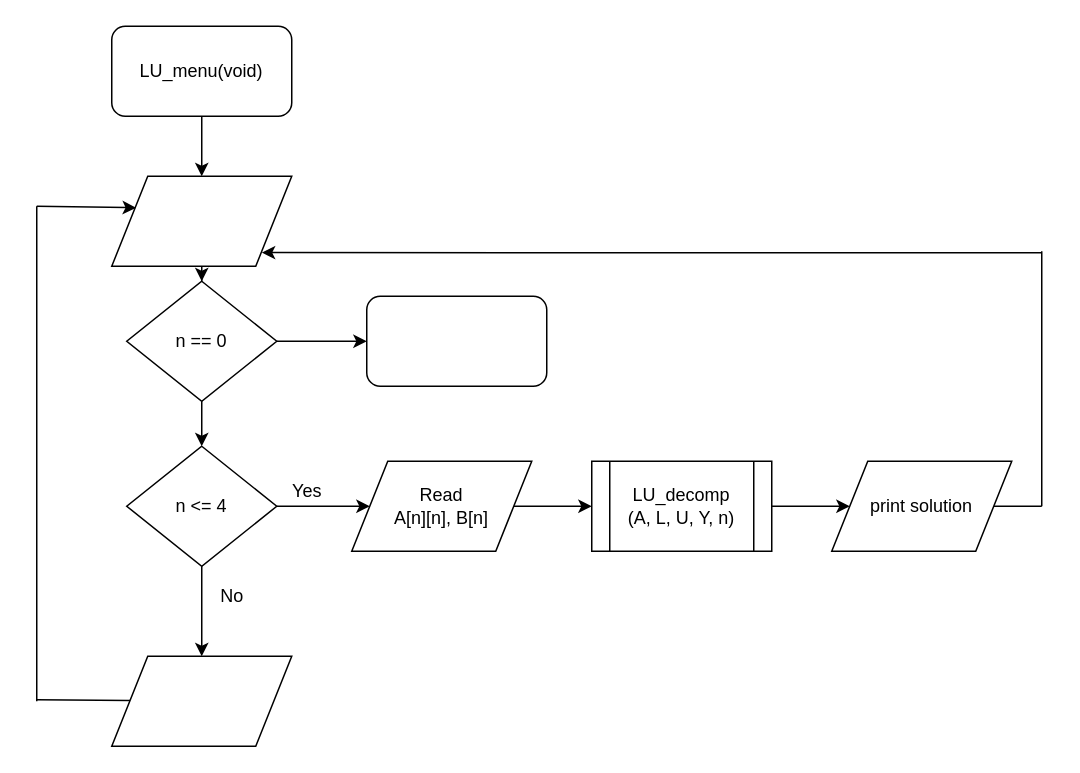
The diagram is 1080 pixels wide and 773 high, and some of its shapes have lost their labels. Here are the shapes that lost their labels. From the top down, the centre of each, then its label:
the point at 201,220: Read n
the point at 456,340: Return
the point at 201,700: print "Try Again"
